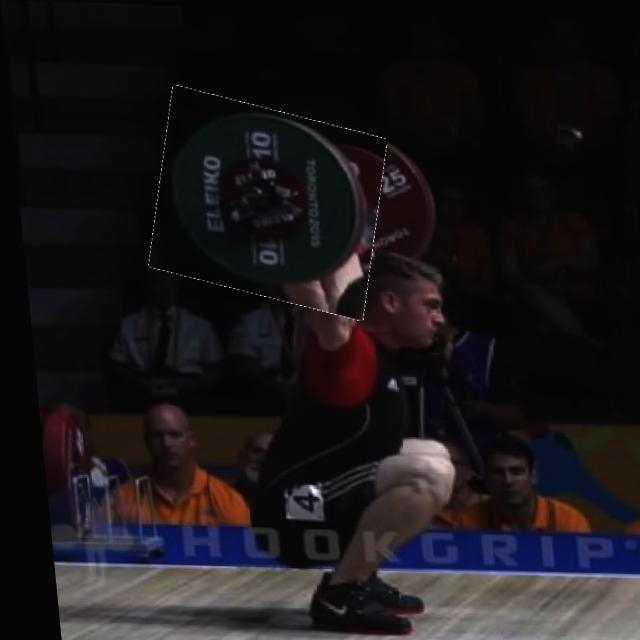barbell: (140, 95, 389, 310)
